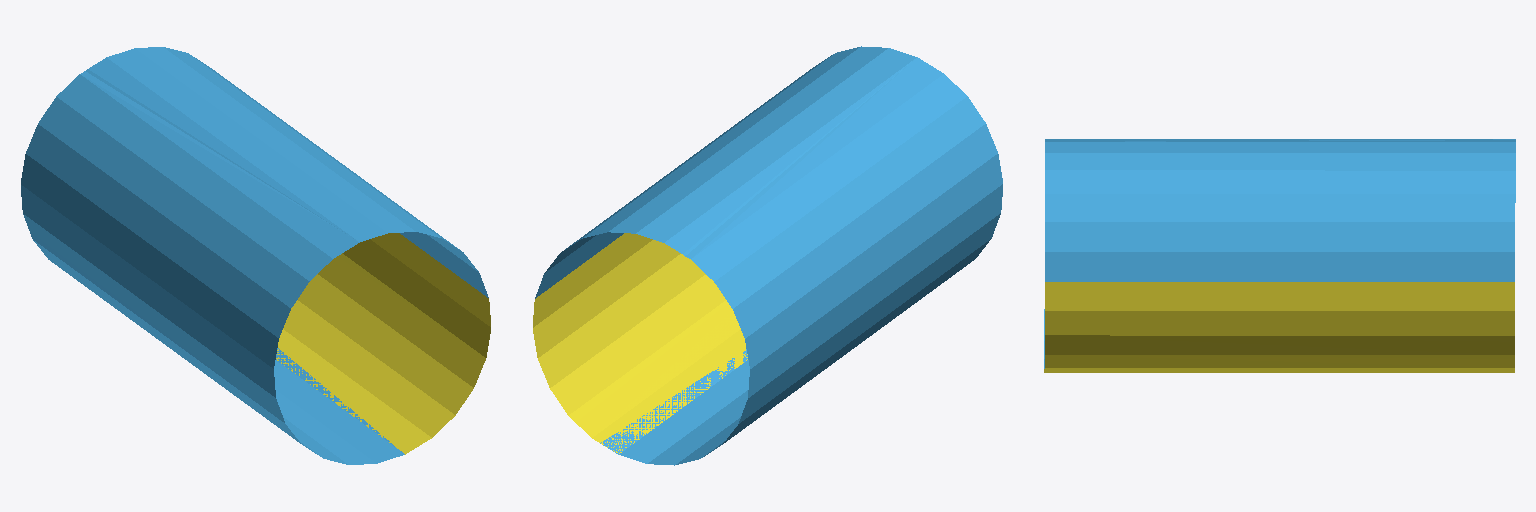
The robot description file, URDF, robot "partnet_8c34afa29665356013b1d3e1528f0506-0":
<?xml version="1.0" ?>
<robot name="partnet_8c34afa29665356013b1d3e1528f0506-0">
	<link name="base"/>
	<link name="link_0">
		<visual name="body-1">
			<origin xyz="-0.0 -0.09713288304940276 0.49444914751130464"/>
			<geometry>
				<mesh filename="textured_objs/original-2.obj"/>
			</geometry>
		</visual>
		<visual name="body-1">
			<origin xyz="-0.0 -0.09713288304940276 0.49444914751130464"/>
			<geometry>
				<mesh filename="textured_objs/original-3.obj"/>
			</geometry>
		</visual>
		<collision>
			<origin xyz="-0.0 -0.09713288304940276 0.49444914751130464"/>
			<geometry>
				<mesh filename="textured_objs/original-2.obj"/>
			</geometry>
		</collision>
		<collision>
			<origin xyz="-0.0 -0.09713288304940276 0.49444914751130464"/>
			<geometry>
				<mesh filename="textured_objs/original-3.obj"/>
			</geometry>
		</collision>
	</link>
	<joint name="joint_0" type="revolute">
		<origin xyz="0.0 0.018658453469988484 0.3295206648576805"/>
		<axis xyz="1.0 -0.0 -0.0"/>
		<child link="link_0"/>
		<parent link="link_1"/>
		<limit lower="-0.03769911184307752" upper="2.519557308179014"/>
	</joint>
	<link name="link_1">
		<visual name="lid-2">
			<origin xyz="-0.0 -0.07847442957941428 0.8239698123689851"/>
			<geometry>
				<mesh filename="textured_objs/original-5.obj"/>
			</geometry>
		</visual>
		<collision>
			<origin xyz="-0.0 -0.07847442957941428 0.8239698123689851"/>
			<geometry>
				<mesh filename="textured_objs/original-5.obj"/>
			</geometry>
		</collision>
	</link>
	<joint name="joint_1" type="revolute">
		<origin xyz="0.0 0.07847442957941428 -0.8239698123689851"/>
		<axis xyz="-1.0 -0.0 -0.0"/>
		<child link="link_1"/>
		<parent link="link_2"/>
		<limit lower="-0.050265482457436686" upper="2.142566189748239"/>
	</joint>
	<link name="link_2">
		<visual name="base_body-3">
			<origin xyz="0 0 0"/>
			<geometry>
				<mesh filename="textured_objs/original-4.obj"/>
			</geometry>
		</visual>
		<visual name="base_body-3">
			<origin xyz="0 0 0"/>
			<geometry>
				<mesh filename="textured_objs/original-1.obj"/>
			</geometry>
		</visual>
		<collision>
			<origin xyz="0 0 0"/>
			<geometry>
				<mesh filename="textured_objs/original-4.obj"/>
			</geometry>
		</collision>
		<collision>
			<origin xyz="0 0 0"/>
			<geometry>
				<mesh filename="textured_objs/original-1.obj"/>
			</geometry>
		</collision>
	</link>
	<joint name="joint_2" type="fixed">
		<origin rpy="1.570796326794897 1.57 -1.570796326794897" xyz="0 0 0"/>
		<child link="link_2"/>
		<parent link="base"/>
	</joint>
</robot>

--- Render facts (derived) ---
Views: 3 orthographic renders of the robot side by side, from view 1: azimuth 30°, elevation 25°; view 2: azimuth 150°, elevation 25°; view 3: azimuth 270°, elevation 25°.
Robot: partnet_8c34afa29665356013b1d3e1528f0506-0 — 4 links, 3 joints (2 revolute, 1 fixed); root link base; default pose: all joints at 0.
Visible links, largest first — view 1: link_0, link_2; view 2: link_0, link_2; view 3: link_0, link_2.
Boxes of the visible links, x1,y1,x2,y2 form: link_0: (21,47,488,464); link_2: (276,233,490,454); link_0: (535,46,1002,465); link_2: (533,233,747,453); link_0: (1044,139,1515,368); link_2: (1044,282,1514,372).
Size in the robot's own frame: 0.083 by 0.1675 by 0.0832 metres.
2 mesh visuals loaded from 5 distinct referenced files (2 OBJ); not drawn: 3 (reference not matched to a file when rendering).